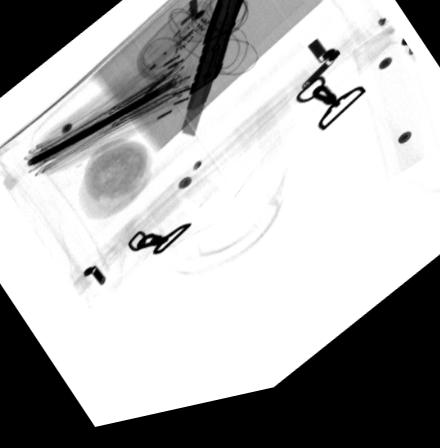Knife: (180, 0, 248, 145)
